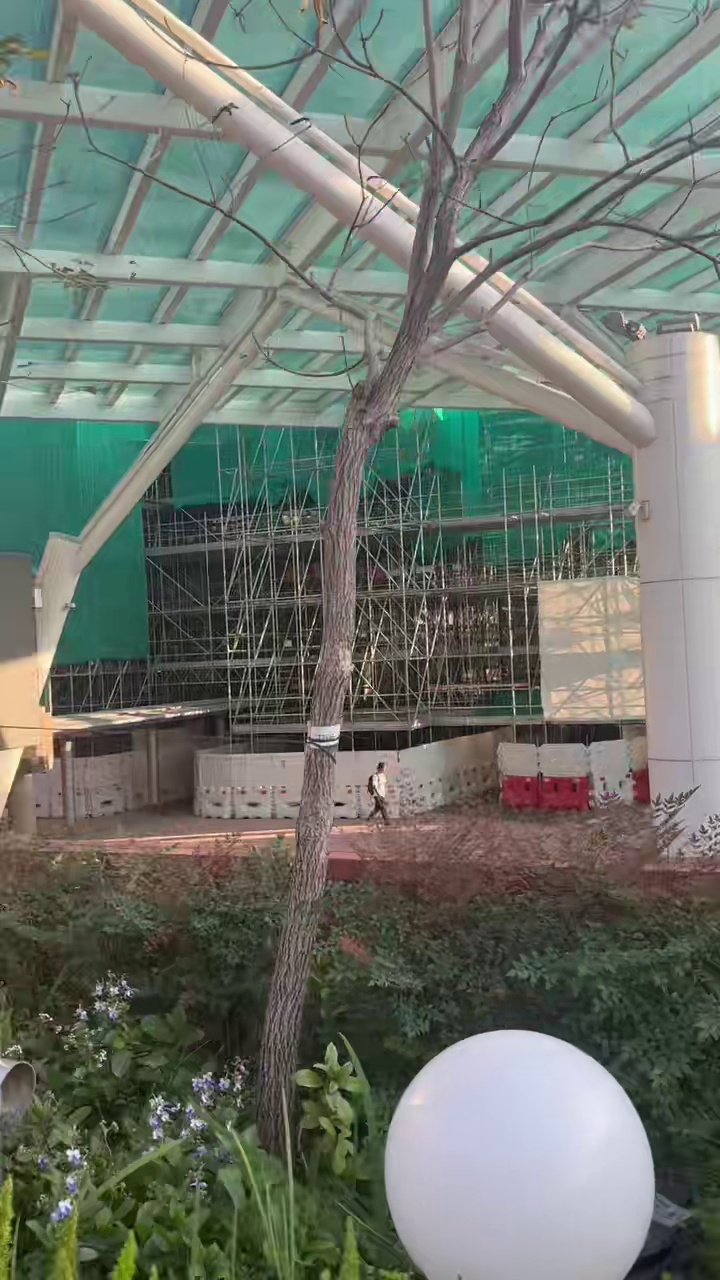Tabebuia chrysantha: (258, 0, 719, 1150)
